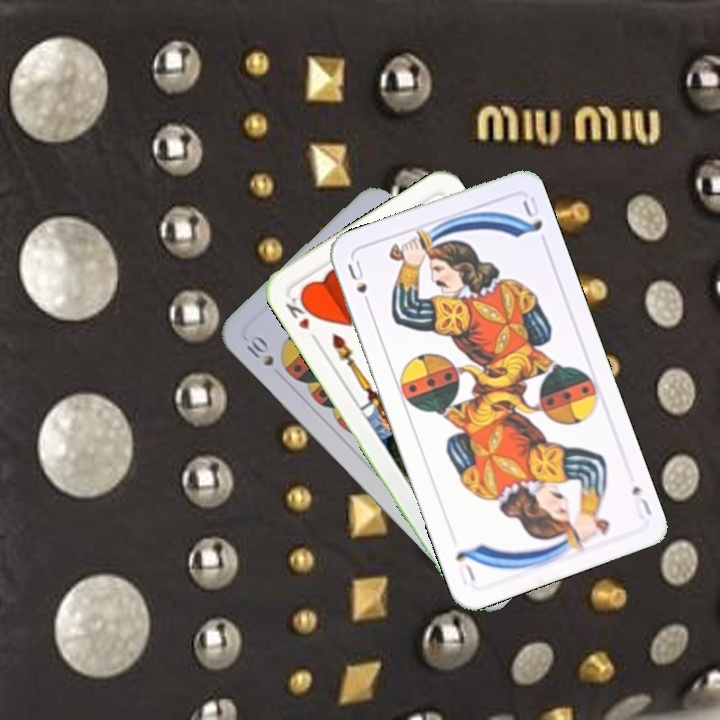HK: (281, 291, 322, 346)
S10: (242, 334, 277, 369)
SU: (343, 256, 375, 312), (627, 481, 655, 522)
